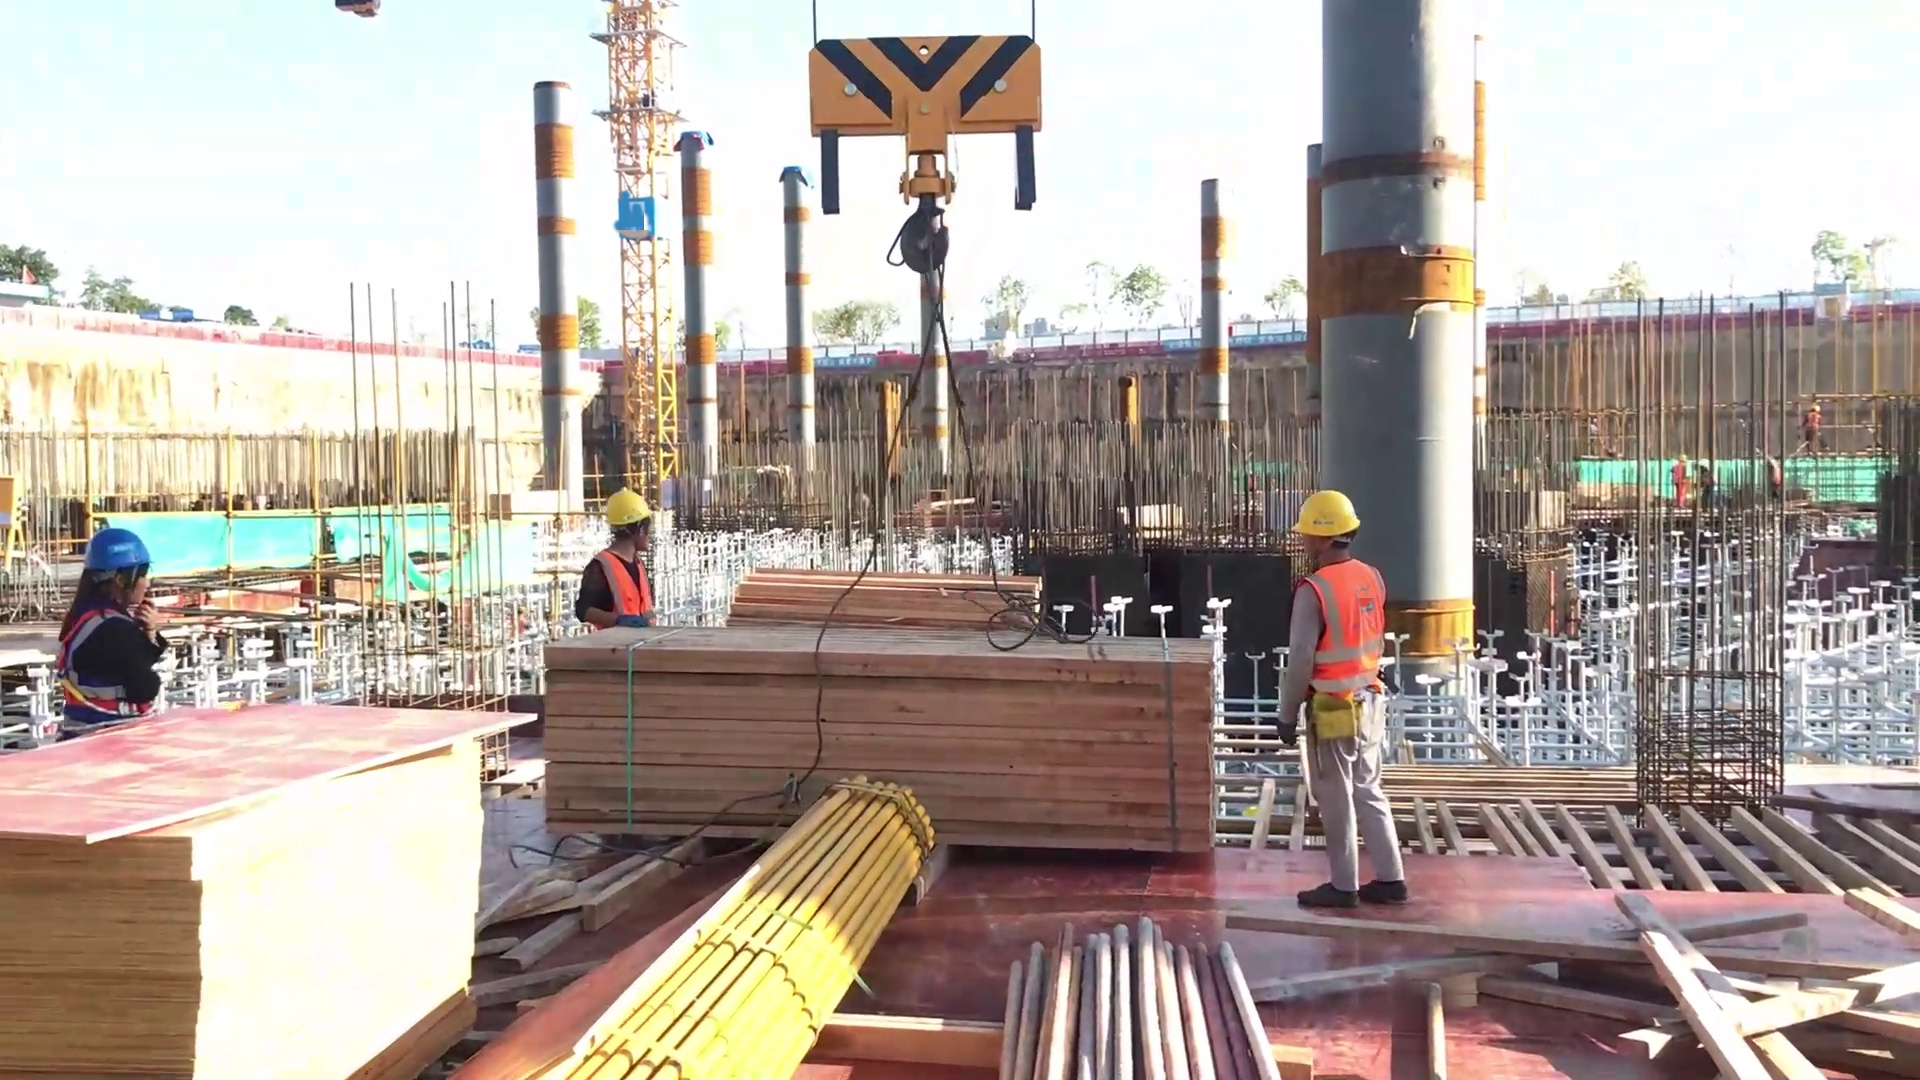board: (2, 687, 565, 1080)
helmet: (77, 518, 170, 583), (1285, 480, 1370, 543), (605, 476, 667, 553)
hook: (800, 27, 1070, 214)
person: (1258, 472, 1435, 910), (35, 508, 186, 723), (566, 477, 662, 633)
rebar: (981, 906, 1267, 1080)
vest: (43, 599, 170, 733), (579, 530, 666, 630), (1306, 570, 1377, 684)
wood: (520, 529, 1250, 896)
